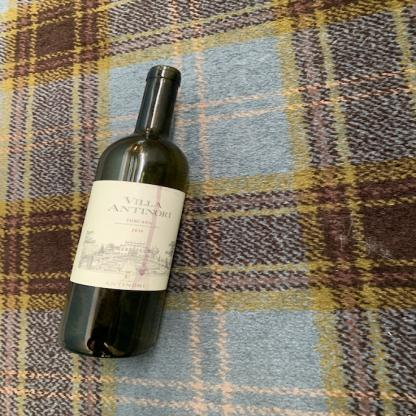trash: (59, 63, 194, 360)
